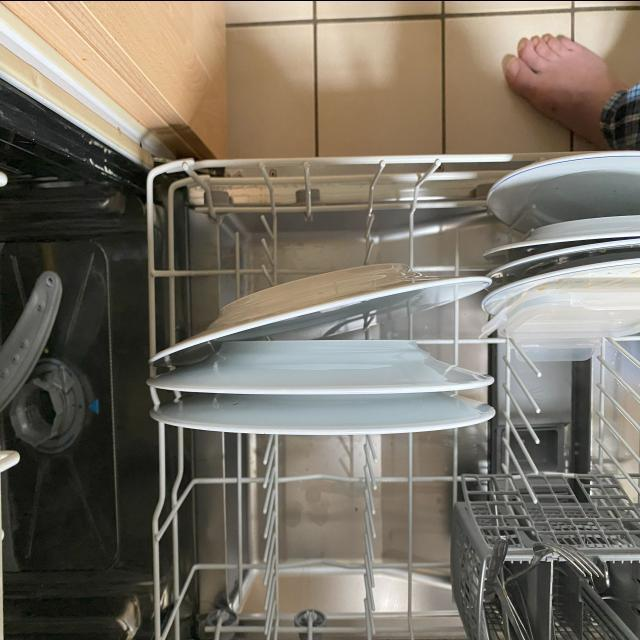clutery_bin: (477, 507, 639, 640)
empty_slot: (173, 439, 460, 640), (175, 174, 477, 262), (500, 340, 640, 465)
